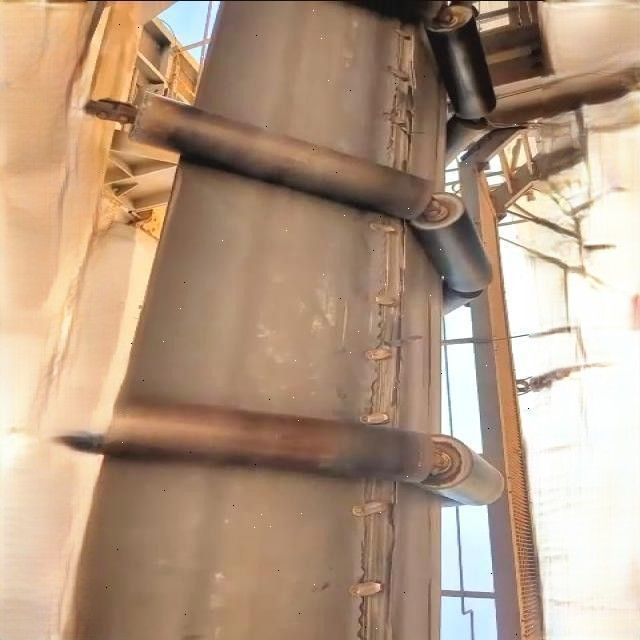Tear: (358, 208, 404, 436), (342, 473, 398, 640), (368, 33, 432, 158)
